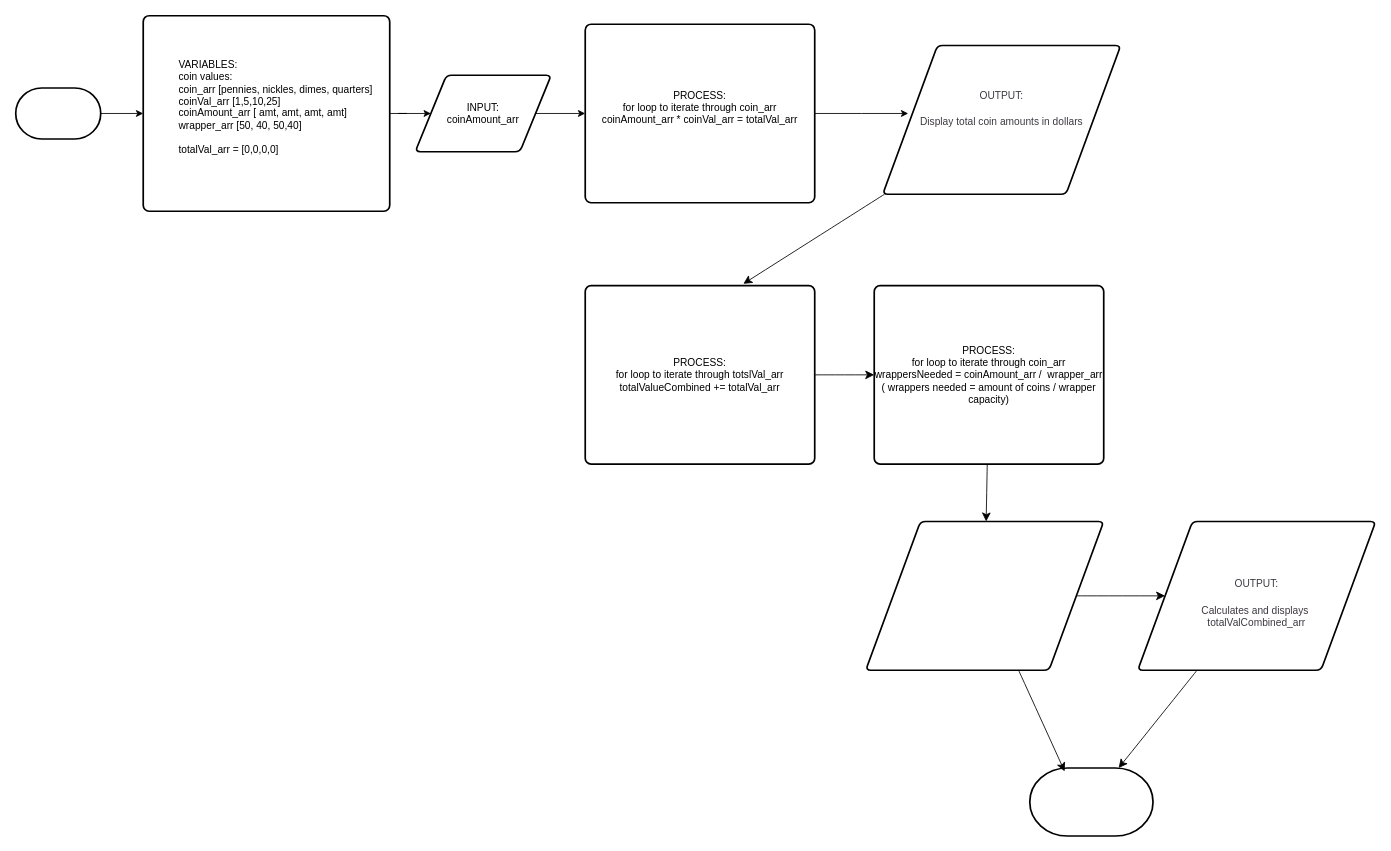
Image size: 1391x851. Some labels were removed from this diagram. The box of each missing label's shape, as (x1, y1, x2, y2) in pixels:
OUTPUT: Calculates and displays wrappersNeeded: (864, 520, 1104, 671)
START: (14, 87, 101, 139)
STOP: (1028, 767, 1153, 836)
